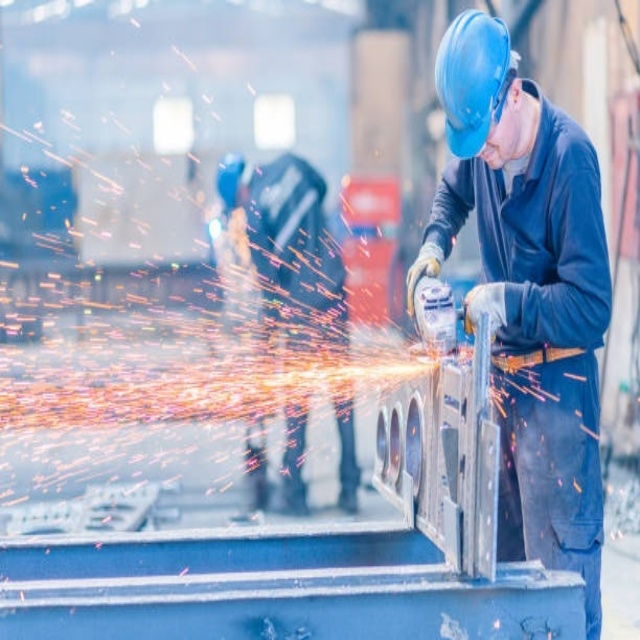Gafas: (488, 61, 517, 136)
Guantes: (406, 242, 444, 320), (463, 281, 514, 339)
Sin_mascara: (479, 138, 503, 171)
